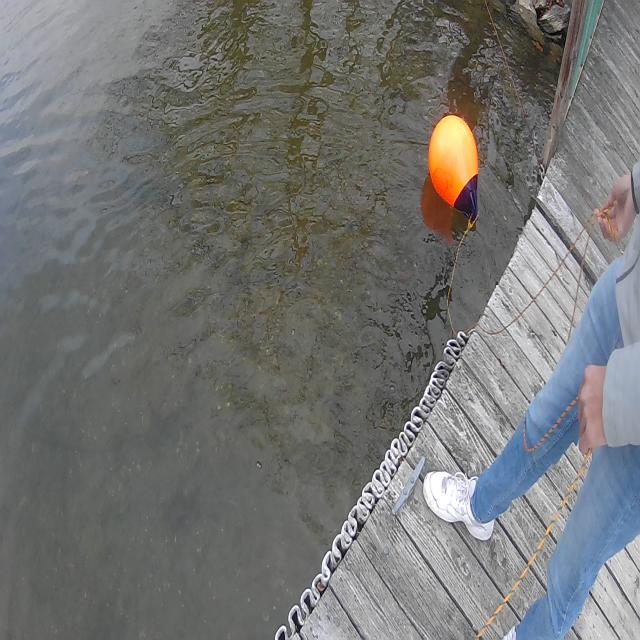Buoy: (419, 100, 493, 247)
